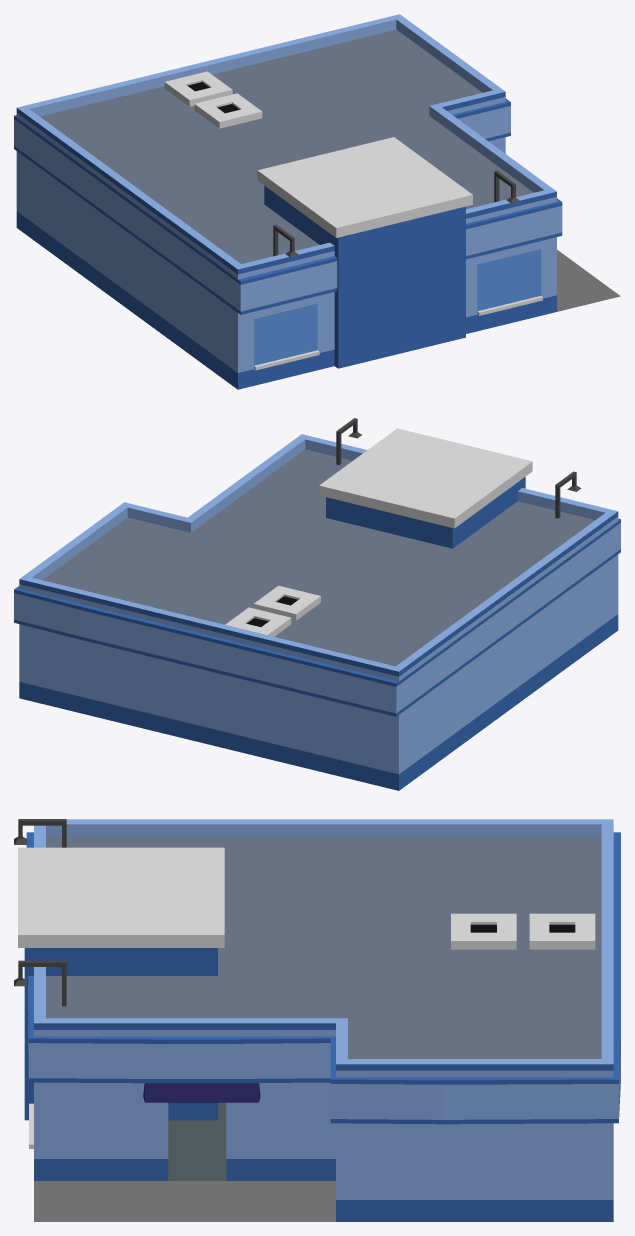
File: Building3.fbx
The picture shows the model from 3 angles, top to bottom: view 1: azimuth 30°, elevation 25°; view 2: azimuth 150°, elevation 25°; view 3: azimuth 270°, elevation 25°; orthographic projection. The views are drawn at different scales.
Parts seen in each view (by area): view 1: Building3Roof, Buiding5Ground.001; view 2: Buiding5Ground.001, Building3Roof; view 3: Buiding5Ground.001, Building3Roof.
Boxes of the visible parts, x1=… form: Building3Roof: x1=40, y1=29, x2=533, y2=368; Buiding5Ground.001: x1=14, y1=14, x2=620, y2=389; Buiding5Ground.001: x1=14, y1=434, x2=620, y2=790; Building3Roof: x1=42, y1=418, x2=595, y2=666; Buiding5Ground.001: x1=26, y1=819, x2=620, y2=1221; Building3Roof: x1=14, y1=819, x2=601, y2=1120.
Bounding box in the file's own units: 1215 × 430 × 1256.
